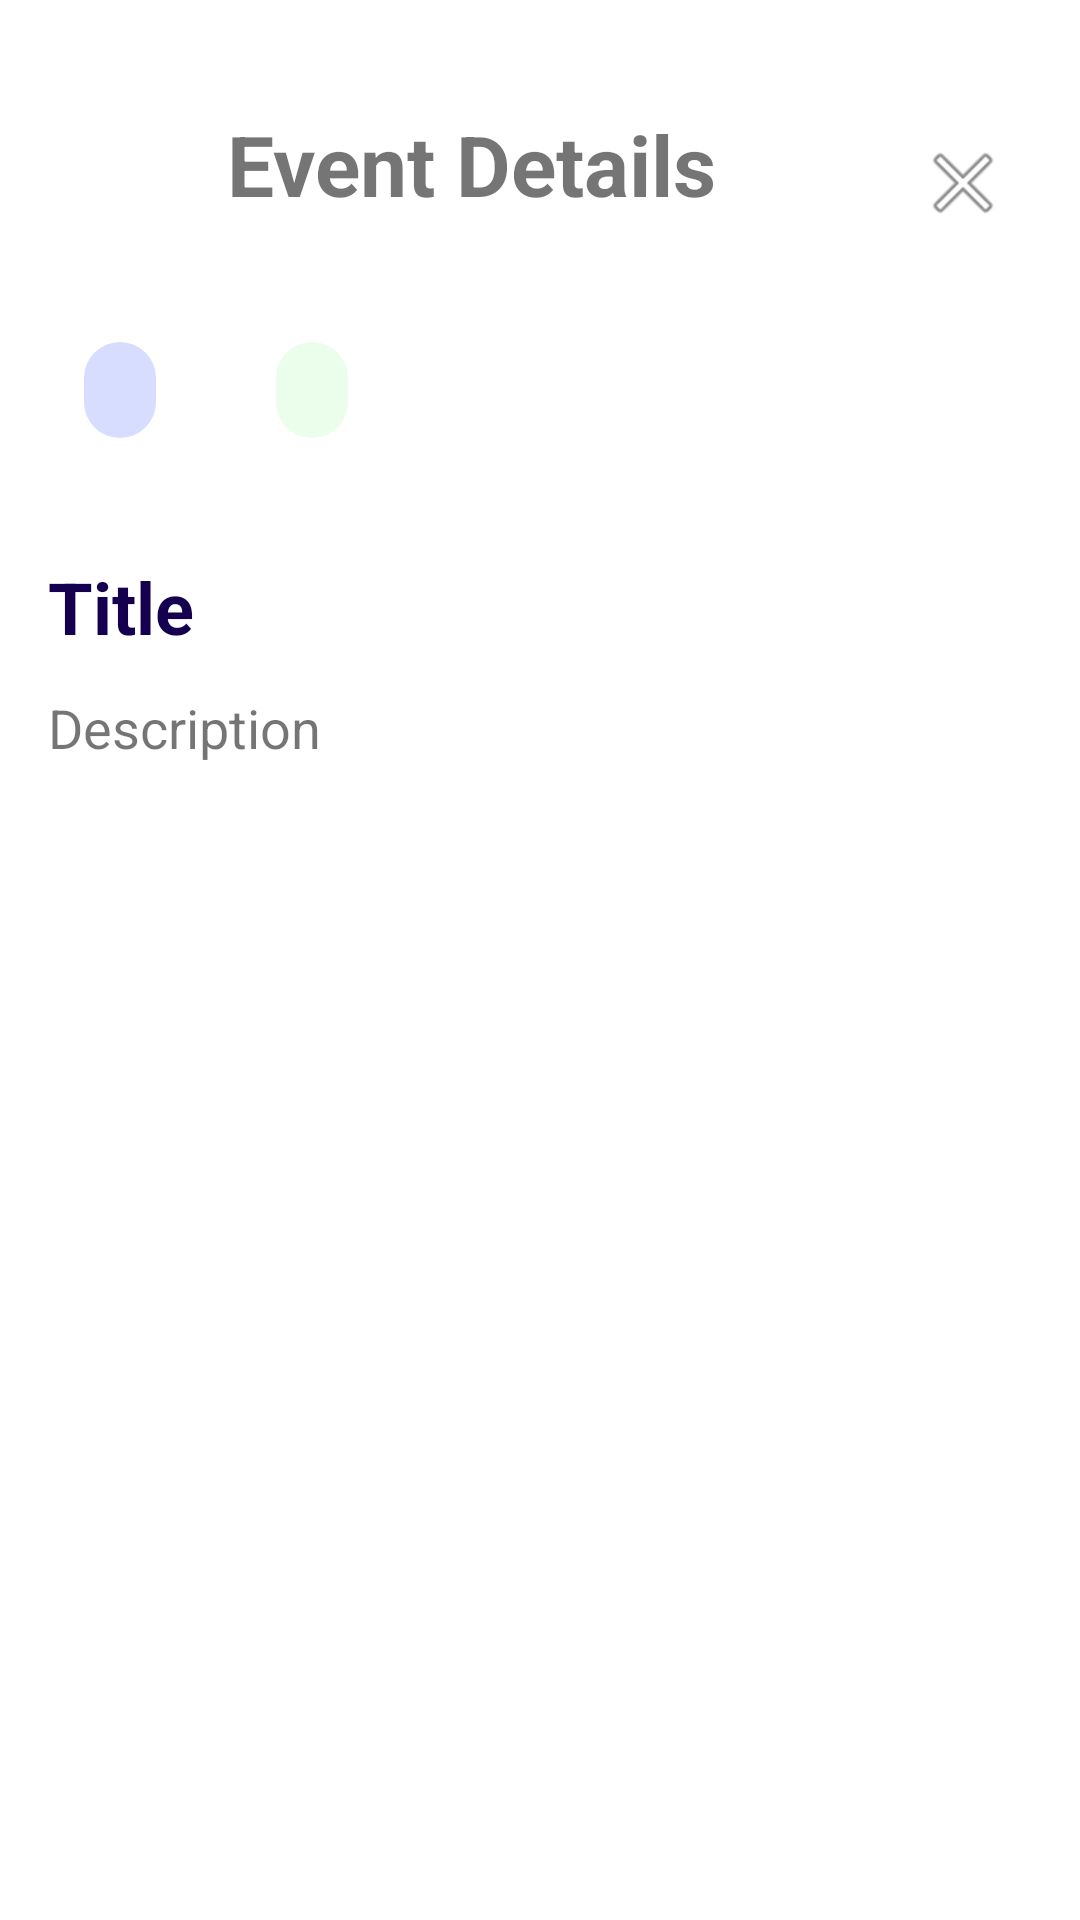

Locate icon controls on the screen. Image size 1080*1920, boxes as (x1, y1, x2, y2).
cross icon: (933, 153, 993, 213)
